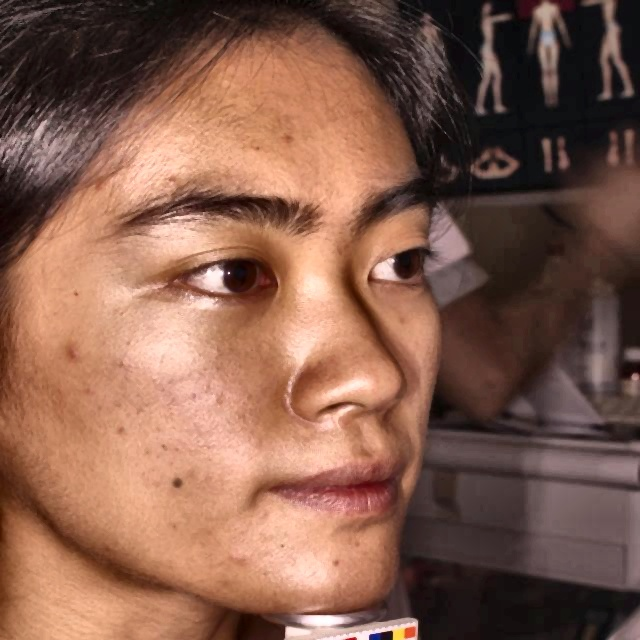comedone: (65, 336, 93, 368)
